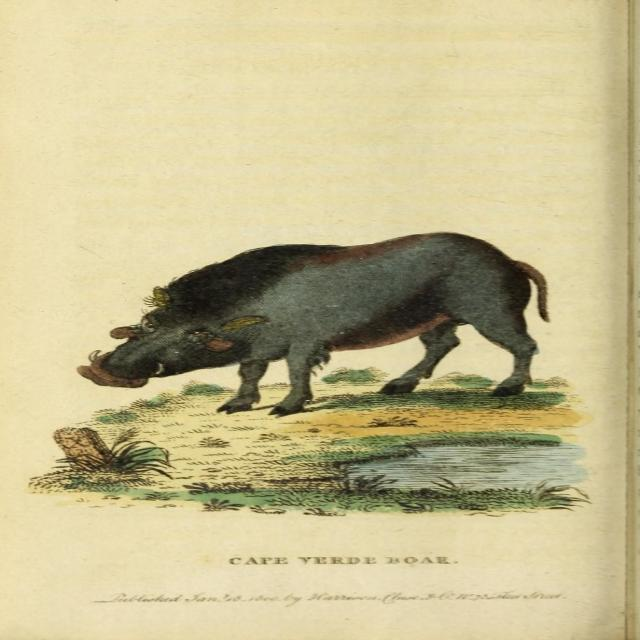Pig: (77, 231, 550, 415)
